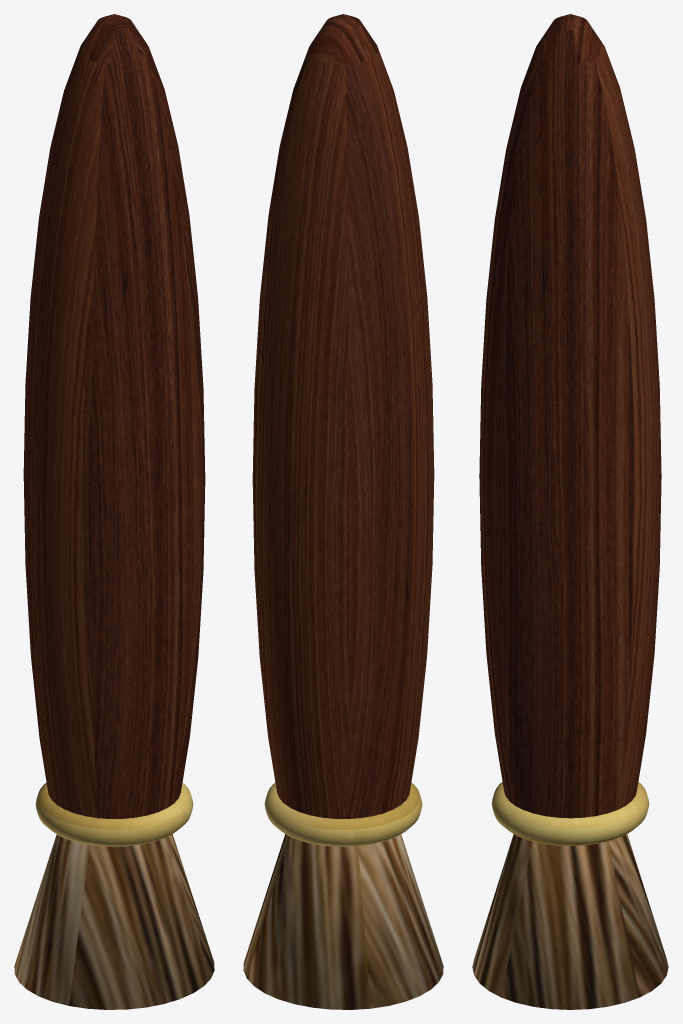
The model's file is paint brush.dae.
The picture shows the model from 3 angles, left to right: view 1: azimuth 30°, elevation 25°; view 2: azimuth 150°, elevation 25°; view 3: azimuth 270°, elevation 25°; orthographic projection.
Parts seen in each view (by area): view 1: Cone; view 2: Cone; view 3: Cone.
Part boxes in pixels (x1,y1,x2,y2): Cone: (14,14,214,1009); Cone: (243,14,443,1009); Cone: (472,14,668,1009).
Bounding box in the file's own units: 0.0308 × 0.03 × 0.1605.
Materials: 1 (1 with a texture image).
